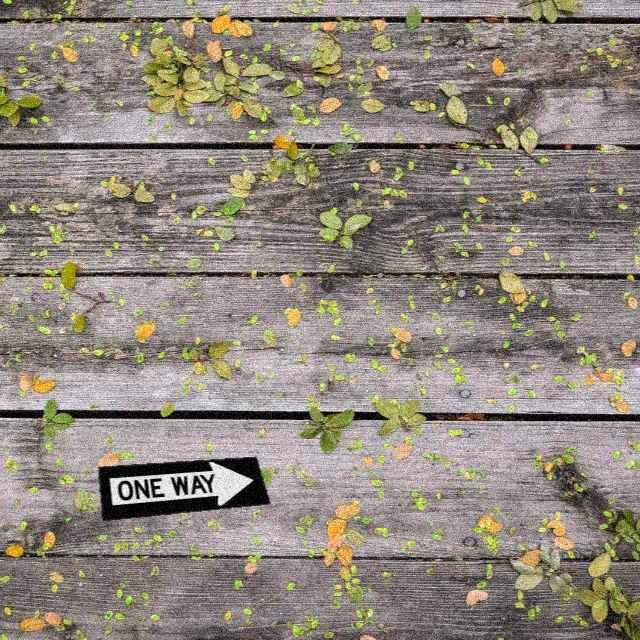ONE_WAY_ right: (97, 456, 270, 521)
